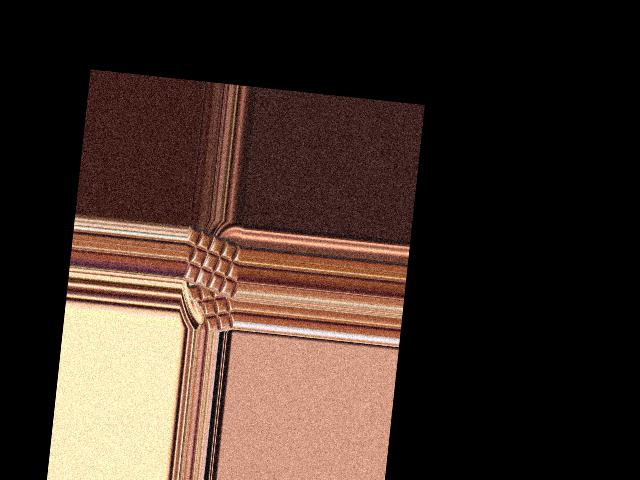chocolate: (182, 224, 244, 301)
